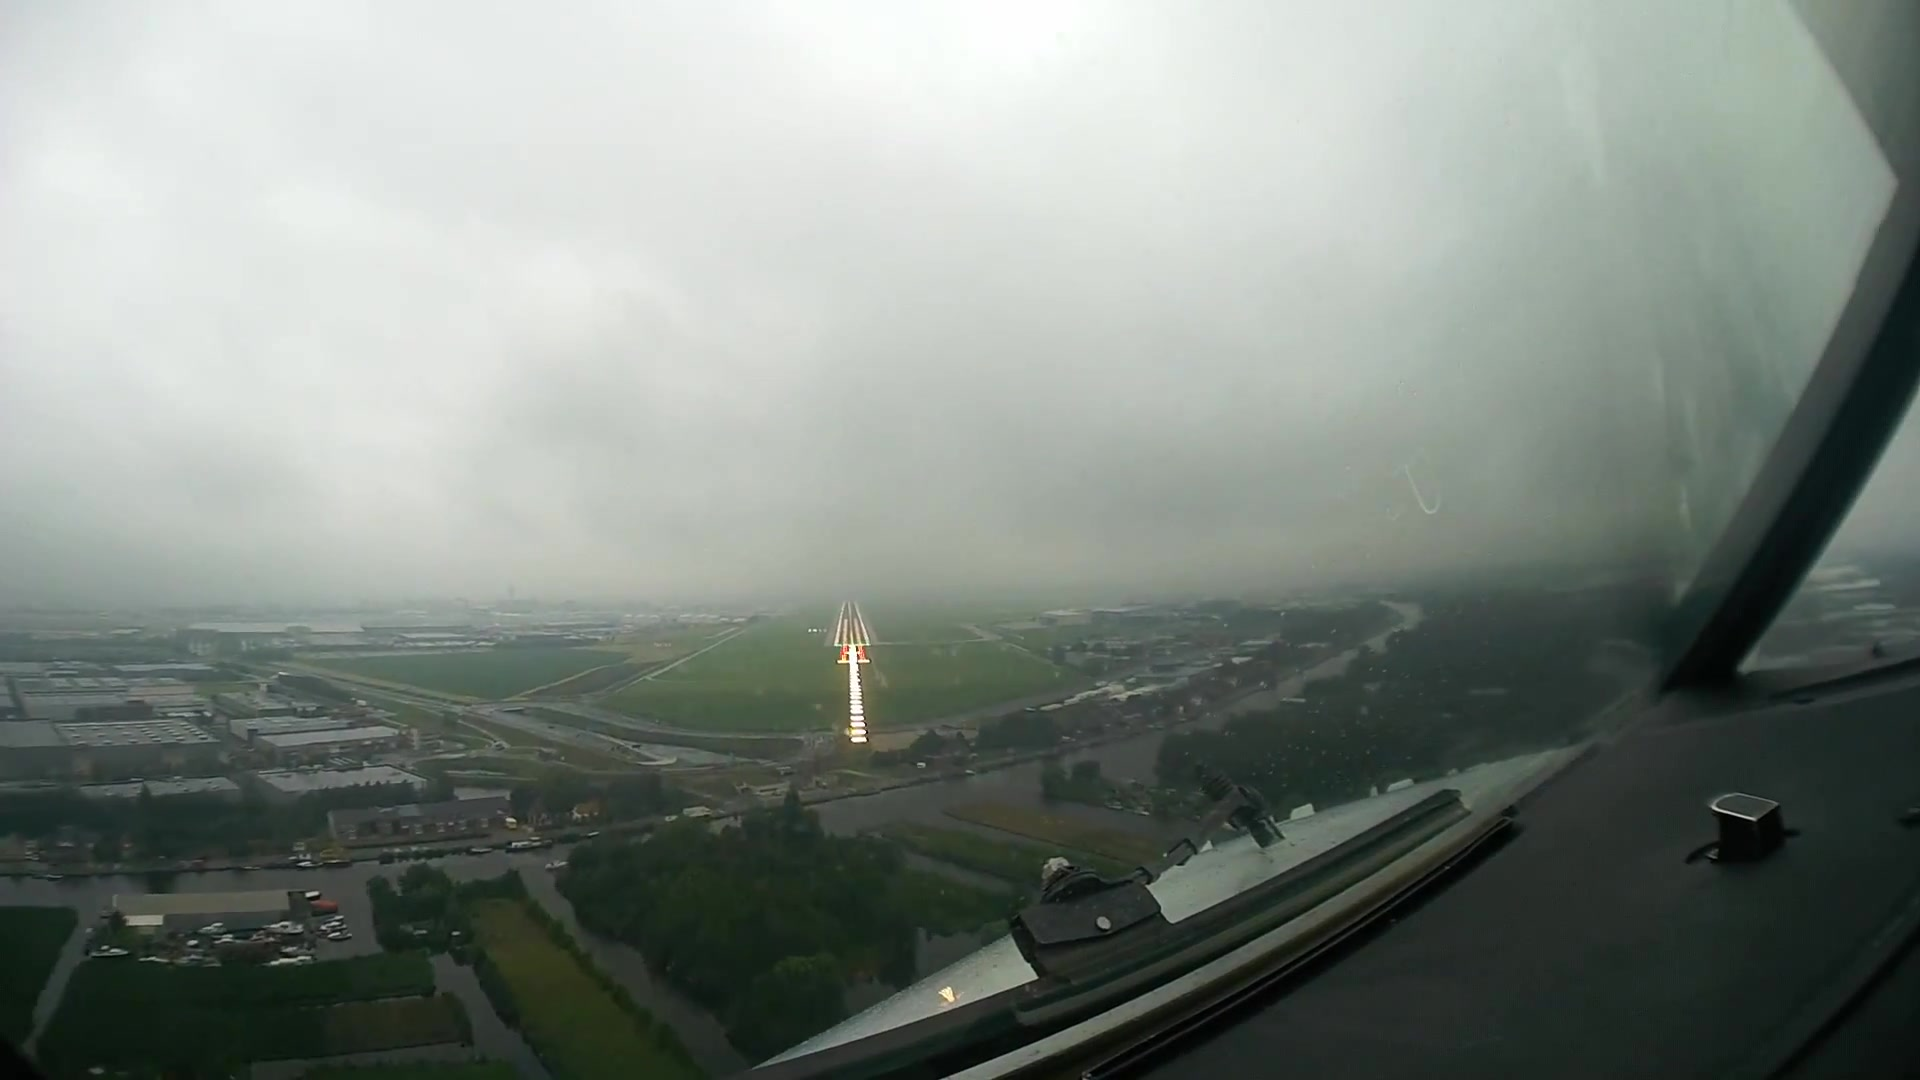runway: (833, 597, 876, 647)
